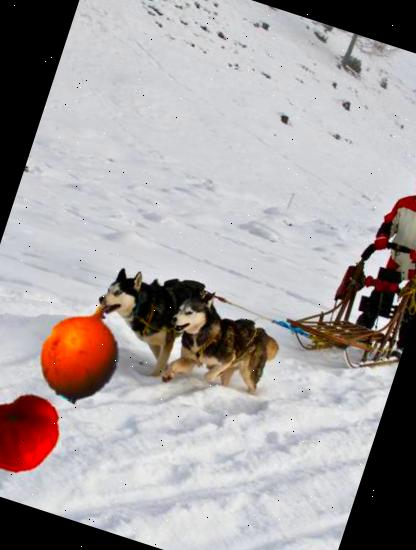Granadilla: (16, 280, 152, 416)
Tomato: (0, 380, 74, 492)
